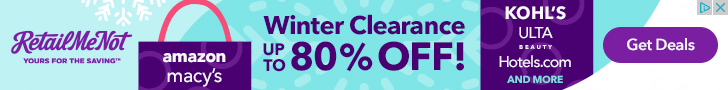fake_button: (600, 20, 726, 69)
